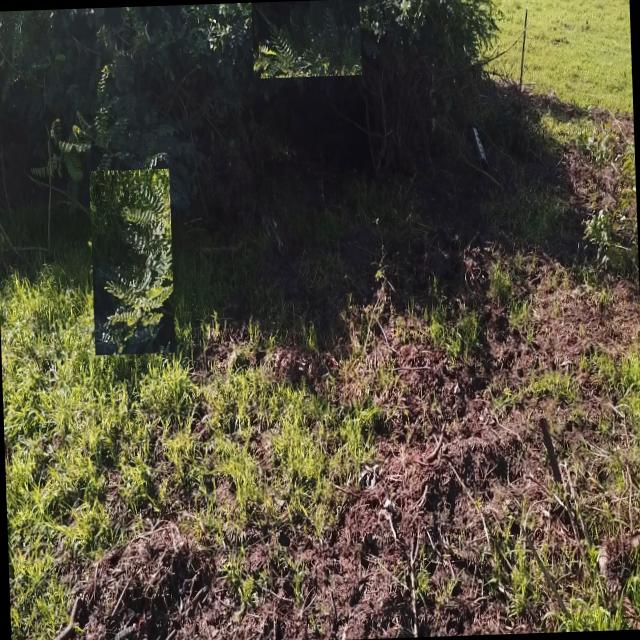Mysore-Thorn-Weed: (30, 4, 202, 197), (89, 168, 175, 354), (251, 0, 361, 78)
